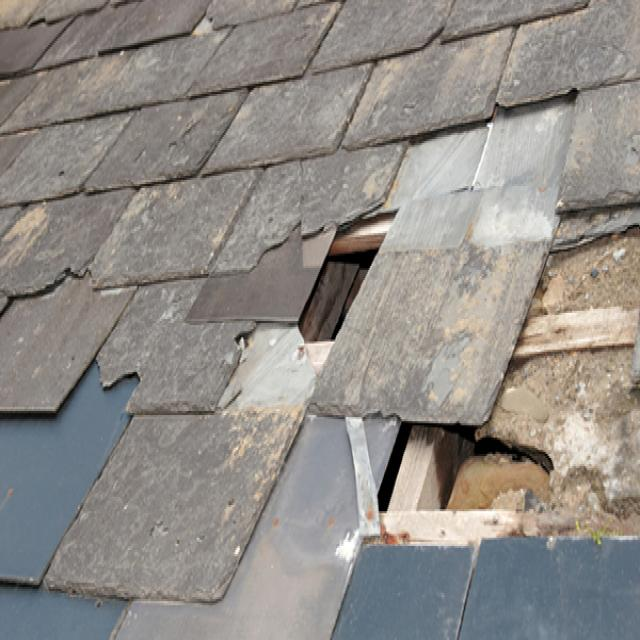damaged_roof: (369, 398, 553, 532), (294, 193, 398, 372)
